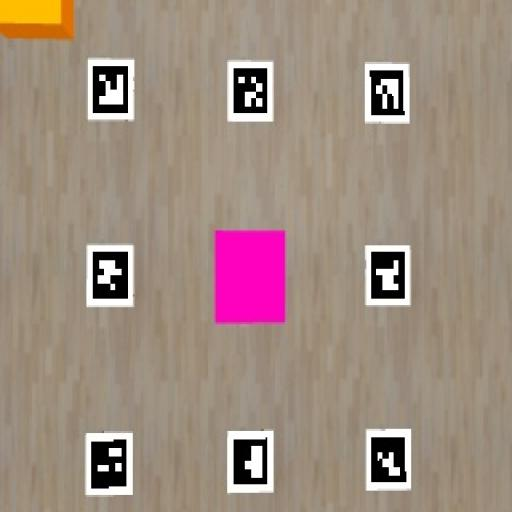car: (215, 231, 286, 324)
fire: (0, 0, 73, 38)
